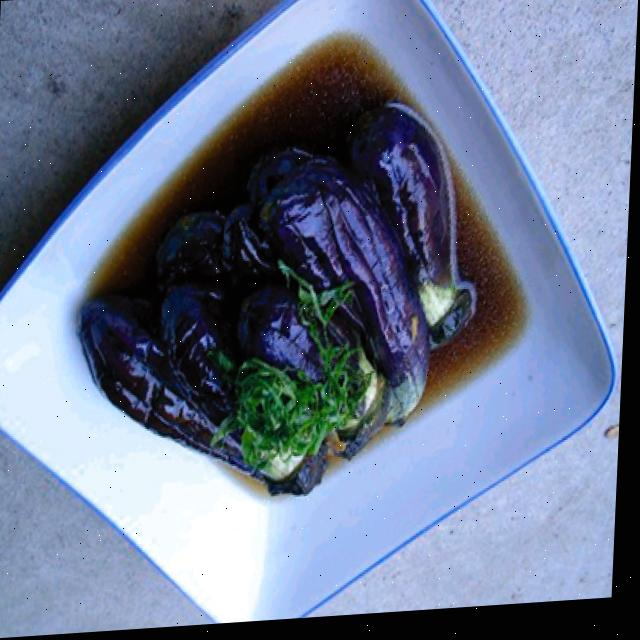鸡蛋料理: (44, 74, 527, 535)
